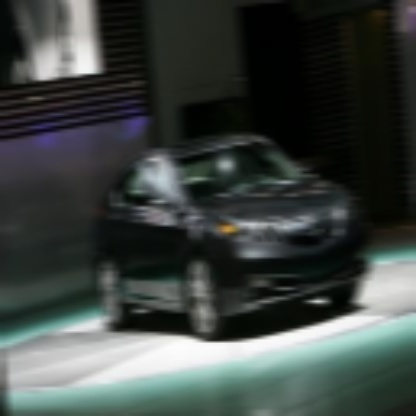Vehicle: (91, 129, 372, 343)
